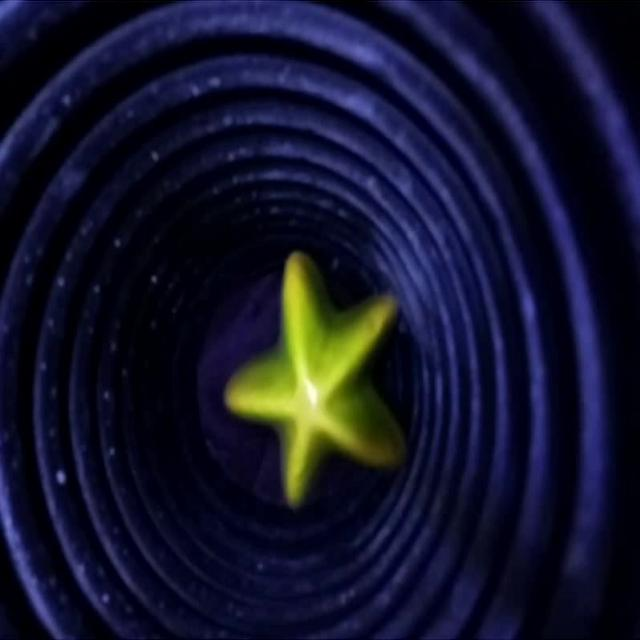obstacles: (224, 253, 418, 507)
